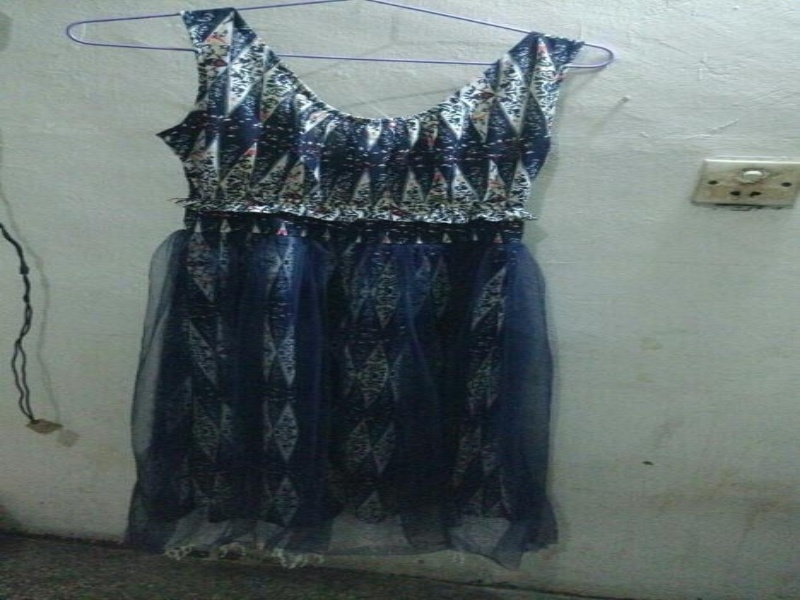vest_dress: (116, 7, 586, 574)
